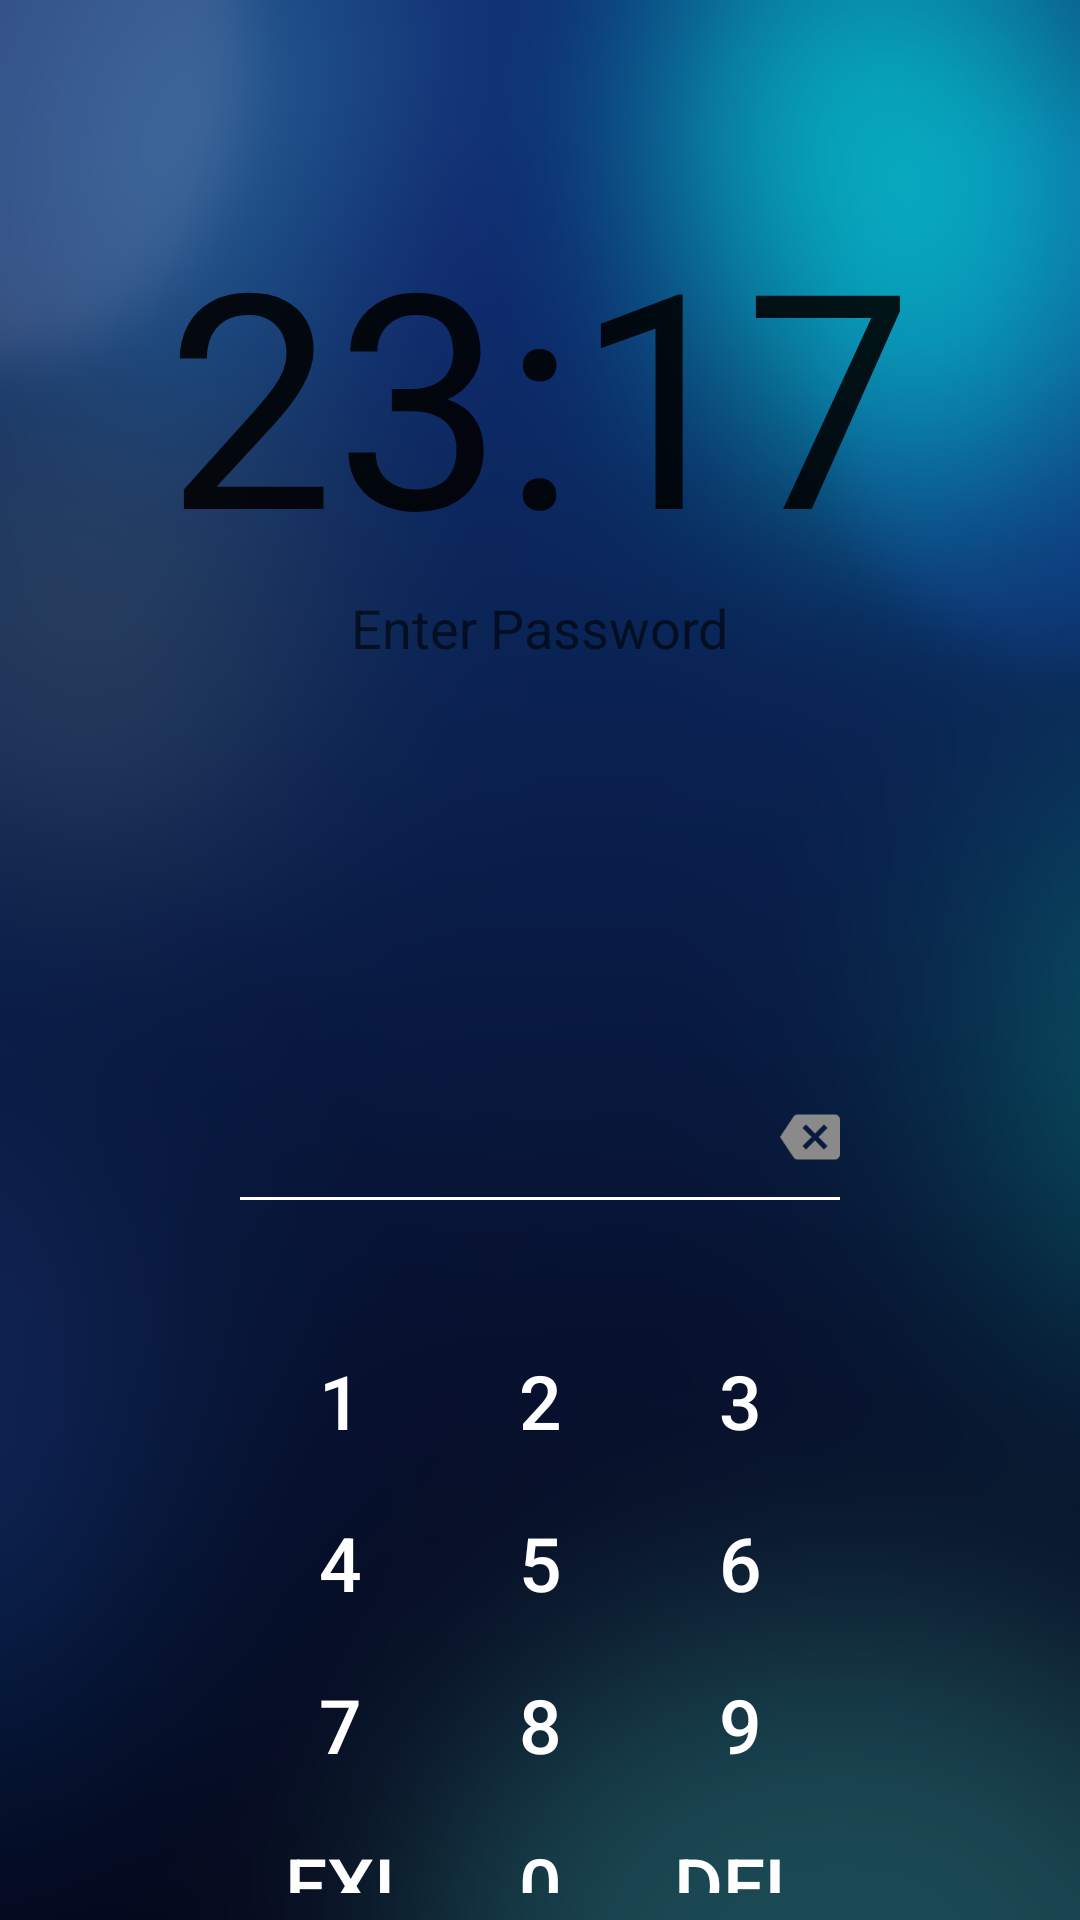

Where icons sit on this 1080px x 1920px app screen, as {"left": x1, "top": y1, "right": x2, "bottom": y2}:
backspace: {"left": 780, "top": 1114, "right": 840, "bottom": 1160}
